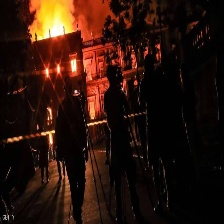fire: (33, 19, 72, 39)
smoke: (27, 1, 109, 27)
